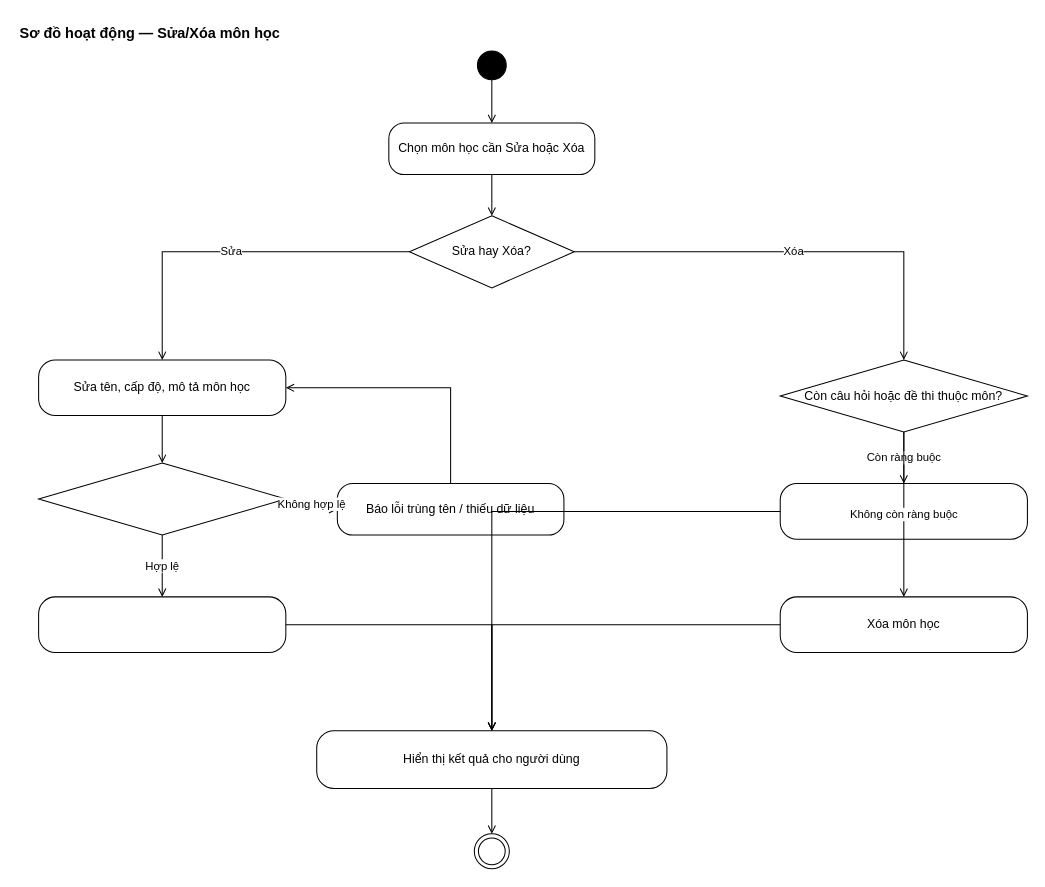
The diagram is 1045 pixels wide and 887 high, and some of its shapes have lost their labels. Here are the shapes that lost their labels. From the top down, the box of each, then its label:
(38, 462, 286, 535): Tên hợp lệ, không trùng?
(779, 483, 1027, 539): Chặn xóa, báo số lượng còn lại
(38, 596, 286, 653): Lưu thay đổi môn học
